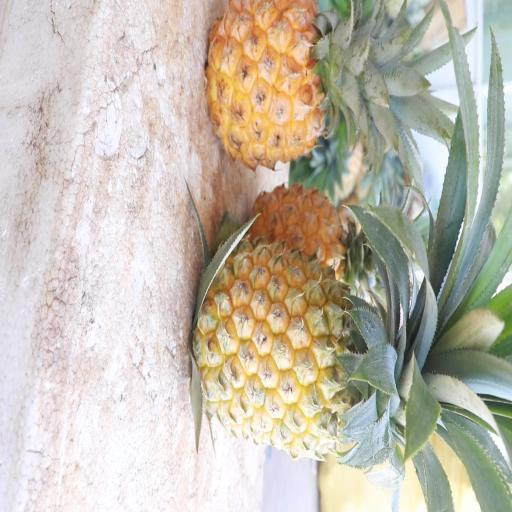Pineapple - v8 v1: (189, 239, 443, 469), (200, 0, 383, 176), (247, 179, 376, 294)
